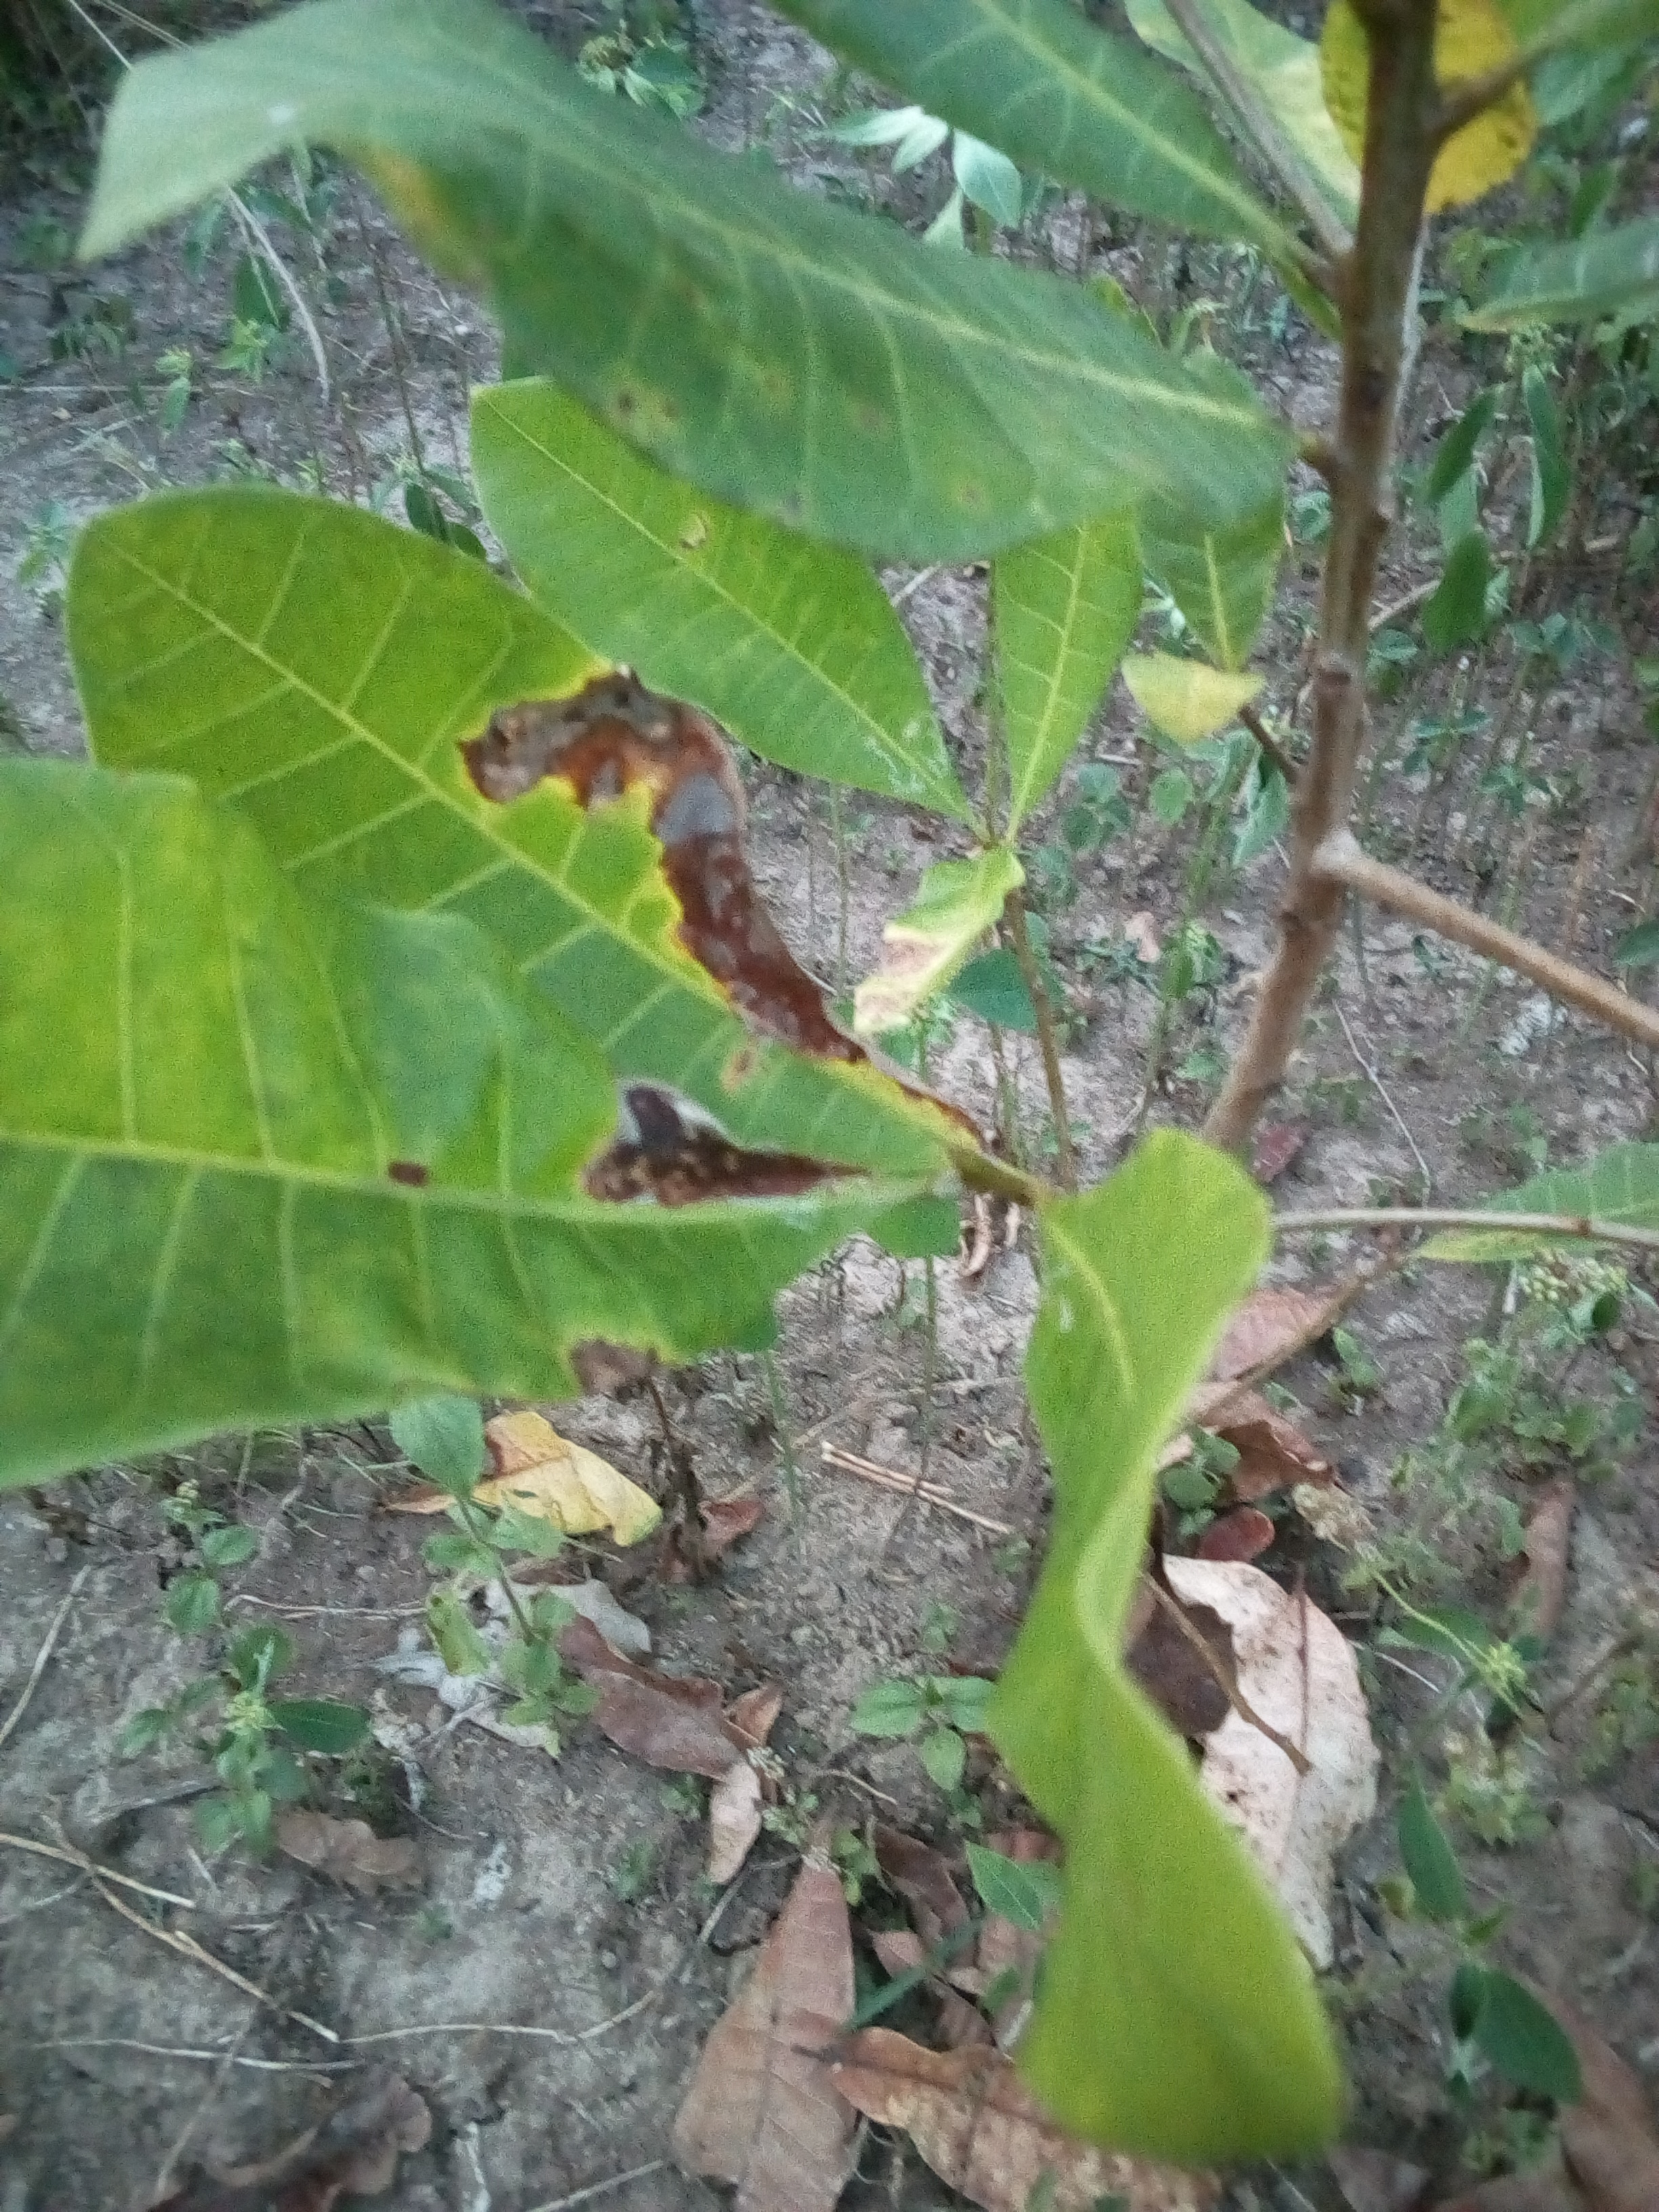Dysdercus wolkerii: (9, 751, 965, 1529), (47, 465, 1030, 1157)
